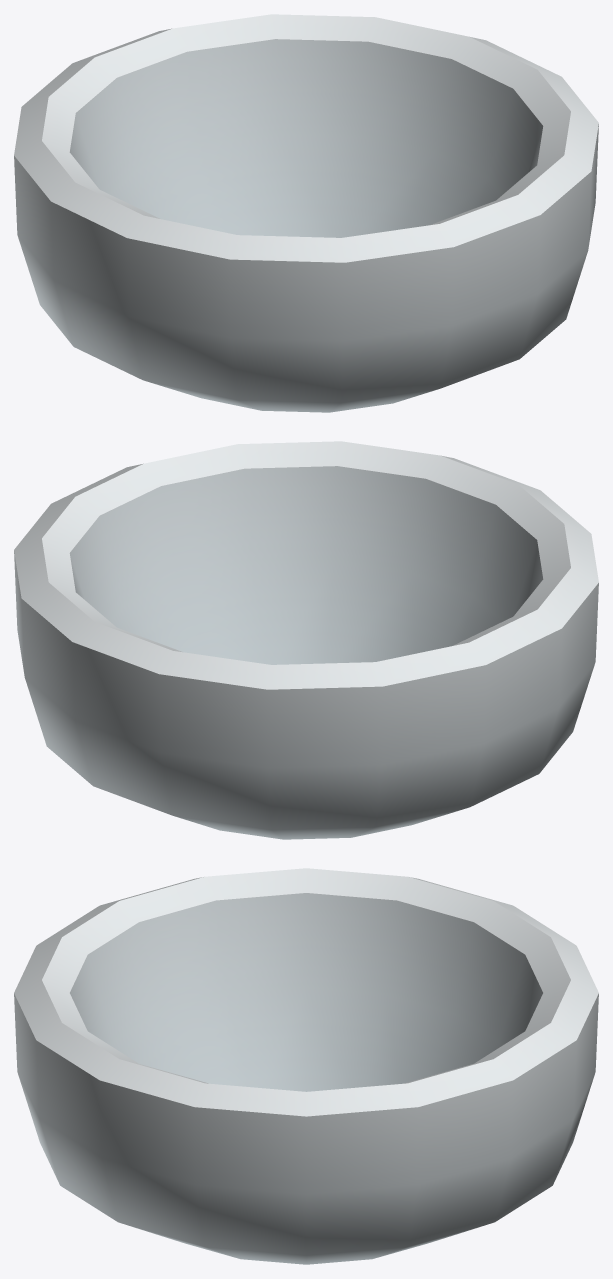
The model's file is Bowl Small.glb.
3 renders of one model, top to bottom at view 1: azimuth 30°, elevation 25°; view 2: azimuth 150°, elevation 25°; view 3: azimuth 270°, elevation 25°, orthographic.
Visible parts, largest first — view 1: bowl_small; view 2: bowl_small; view 3: bowl_small.
Part boxes in pixels (x1,y1,x2,y2): bowl_small: (14, 14, 598, 412); bowl_small: (14, 441, 598, 839); bowl_small: (14, 868, 598, 1264).
Size of the model in its own units: 0.75 by 0.3 by 0.75.
1 material, 1 textured.
